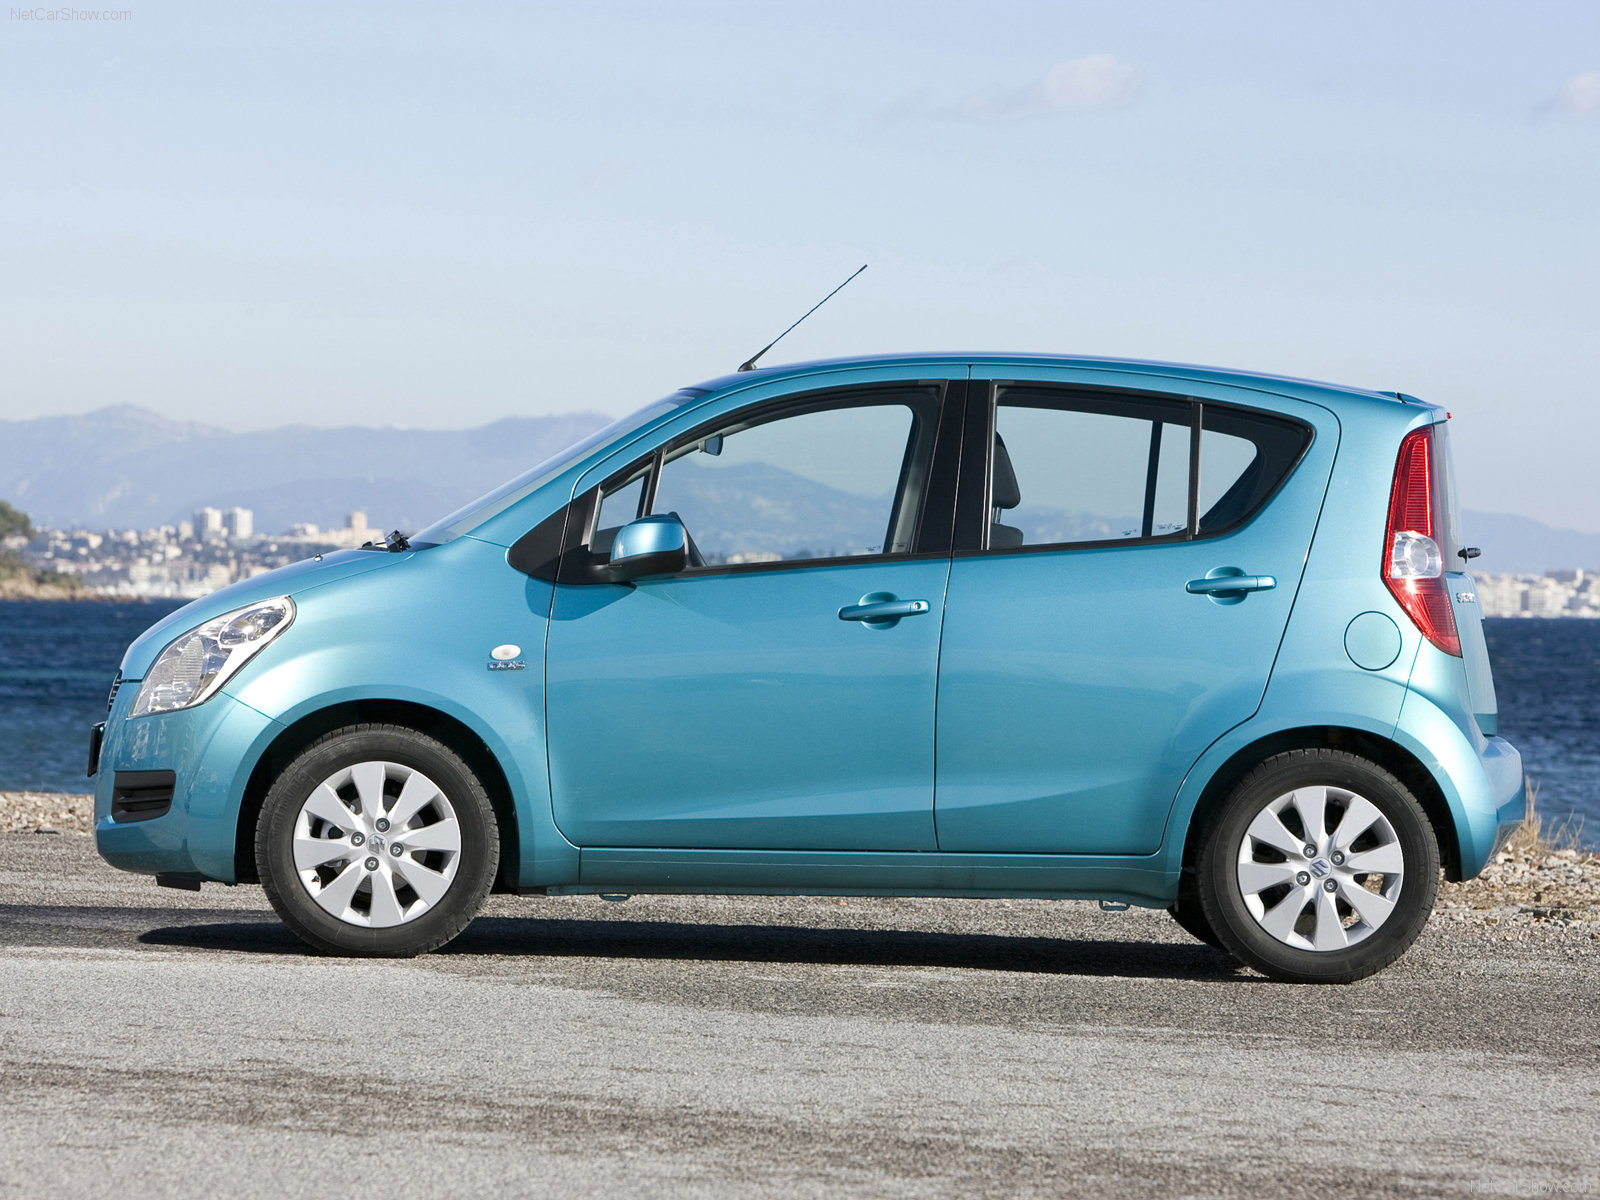car: (93, 349, 1522, 996)
